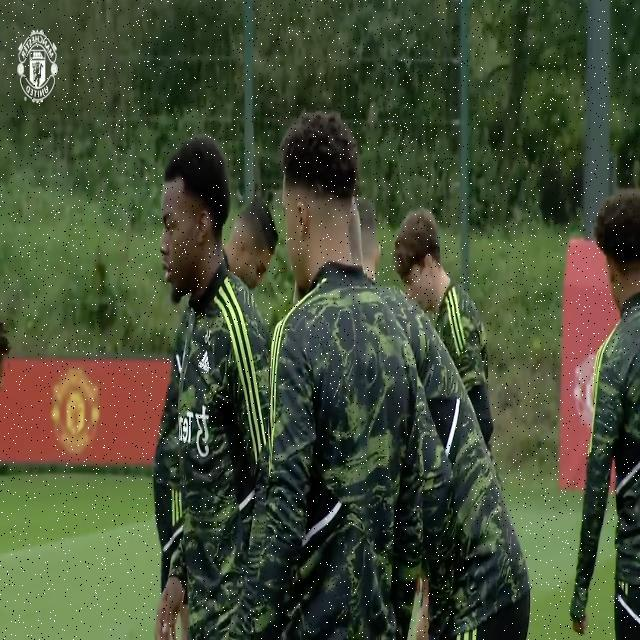Adidas: (197, 349, 211, 377)
